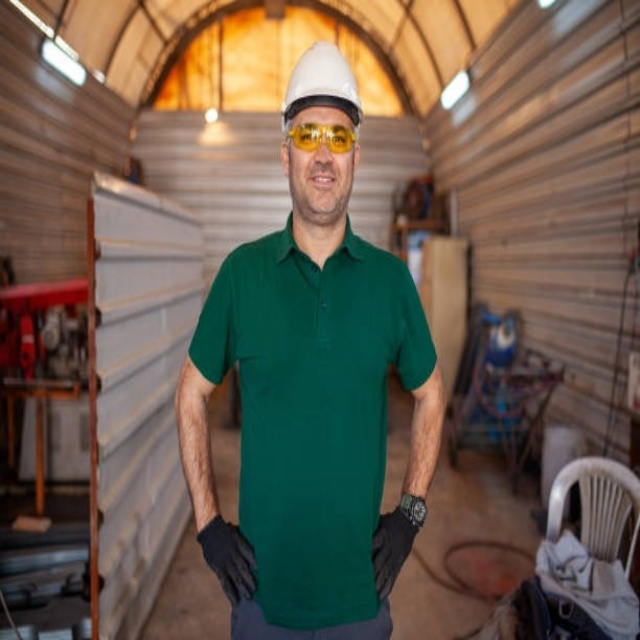Gafas: (285, 122, 357, 153)
Guantes: (196, 515, 260, 609), (370, 505, 421, 602)
Sin_mascara: (302, 163, 346, 209)
